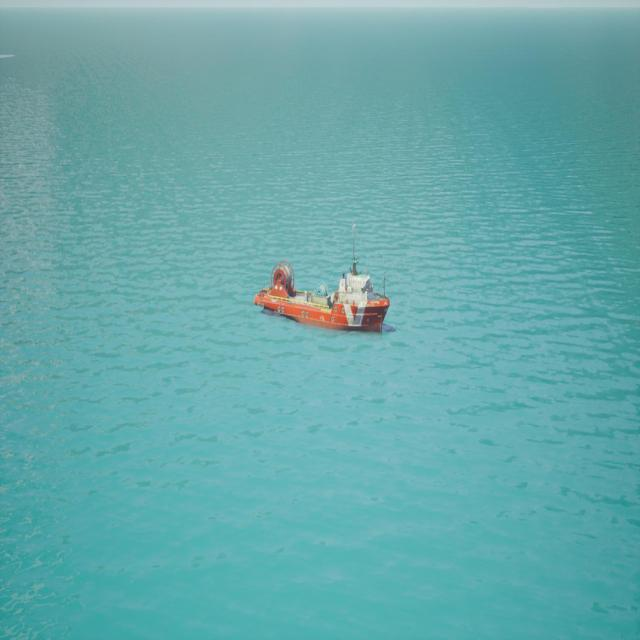tug boat: (254, 224, 394, 339)
